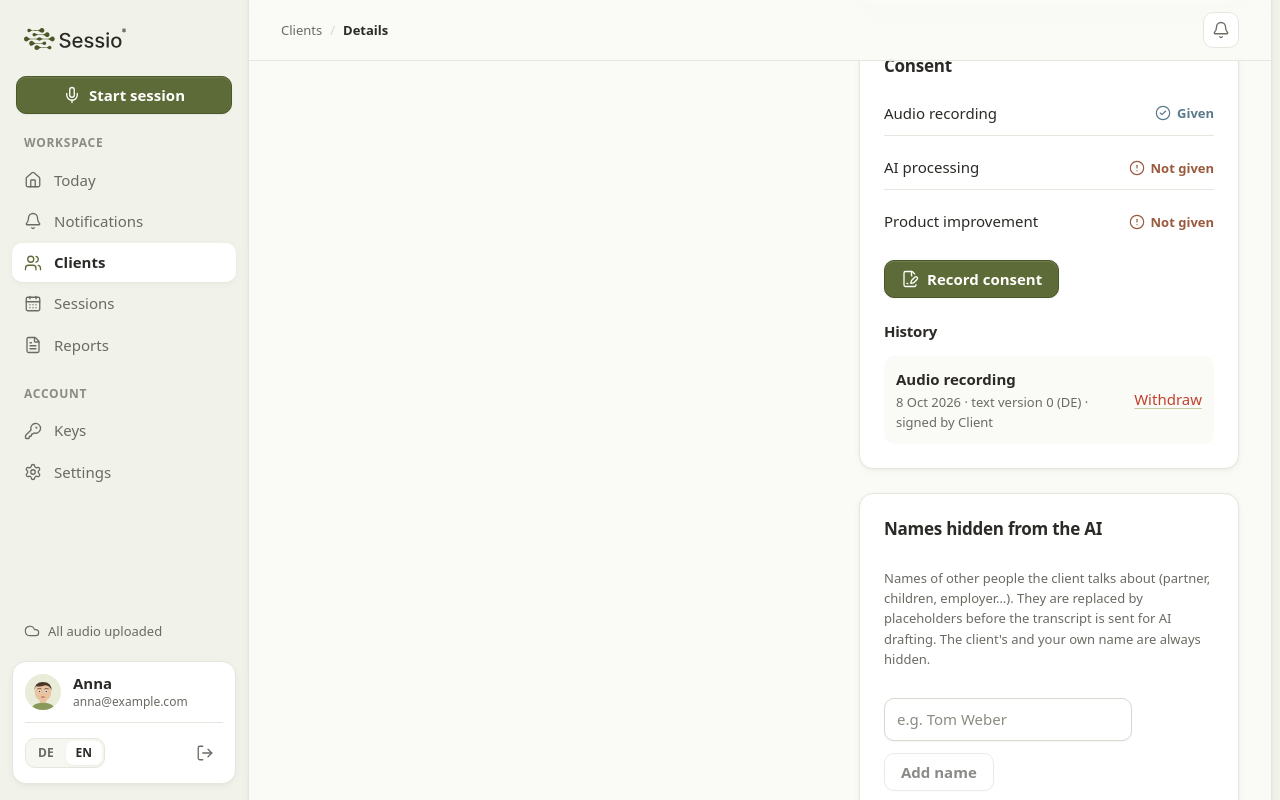
Test: clients › withdraws a consent after confirmation
(page scrolled)
Click the button "Withdraw": (1168, 400) [1134,388,1202,412]
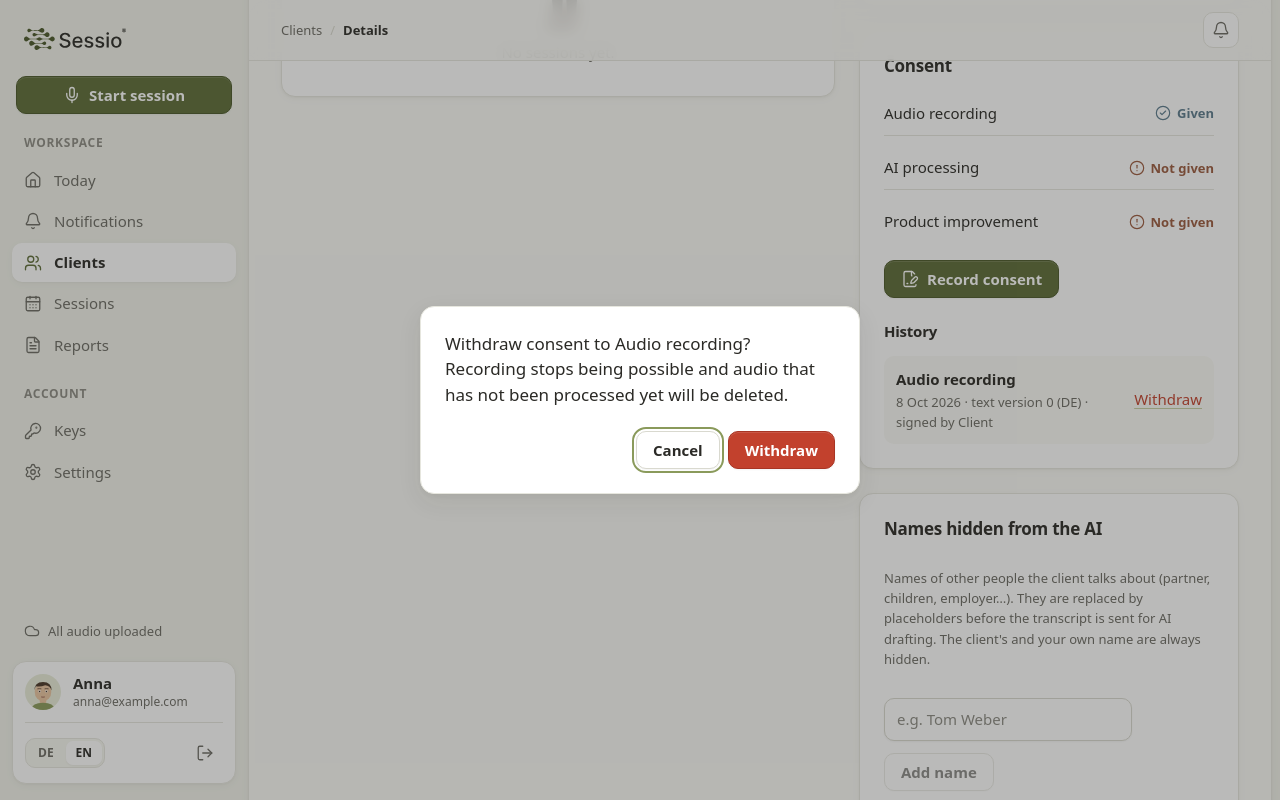
Click the button "Withdraw": (781, 450) [728,431,835,469]
(page scrolled)
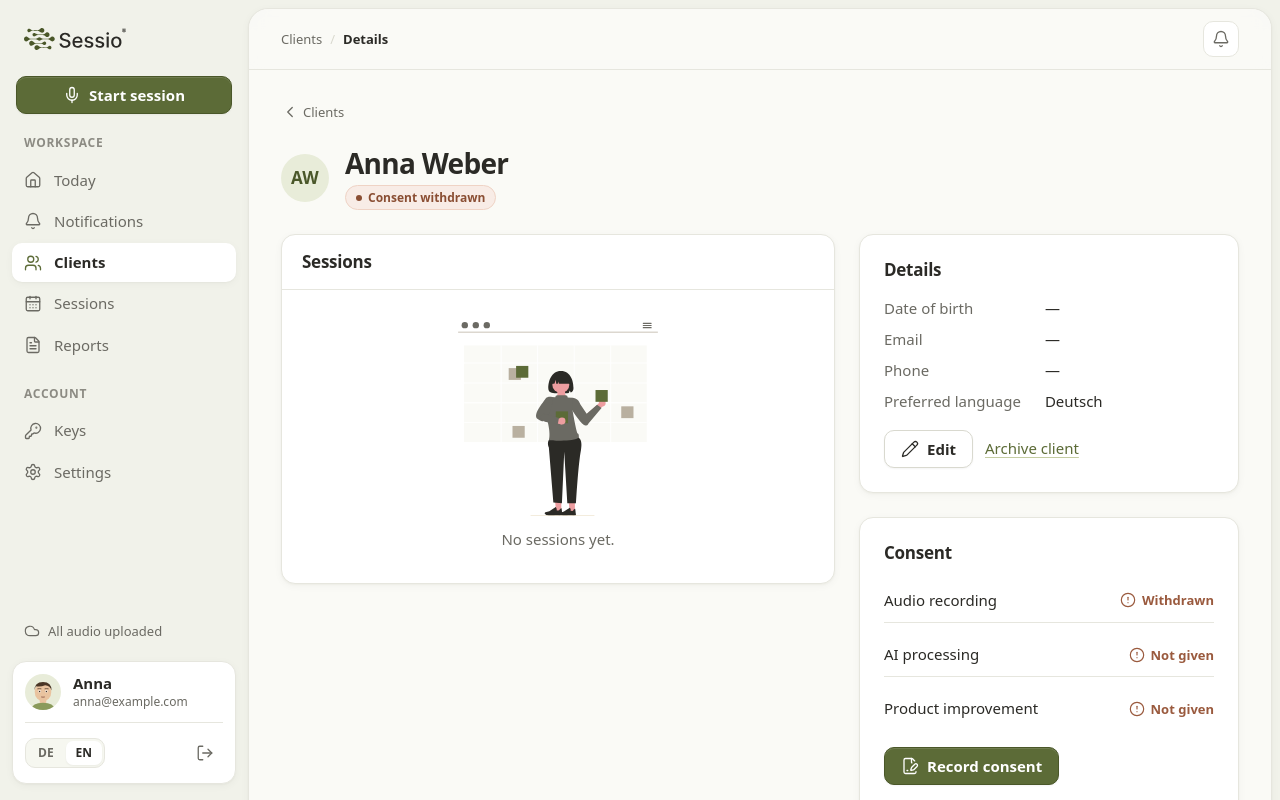
Result: the text "Consent withdrawn" is shown at [345,185,496,210]
